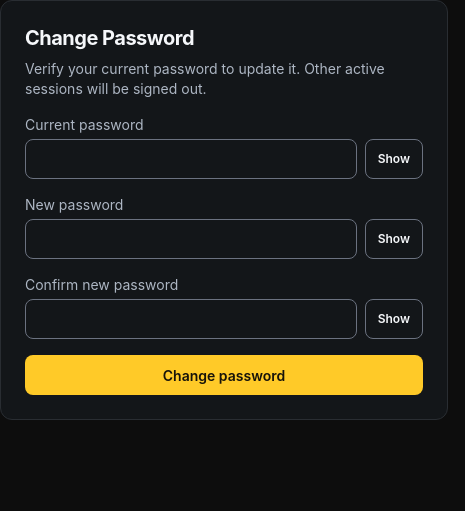
Scenario: ChangePasswordForm › submits through the authenticated API and clears plaintext fields
This screenshot has width=465, height=511.
In the password field labelled "Current password": coordinates (191, 159) [25,139,357,179], type "oldpass123"
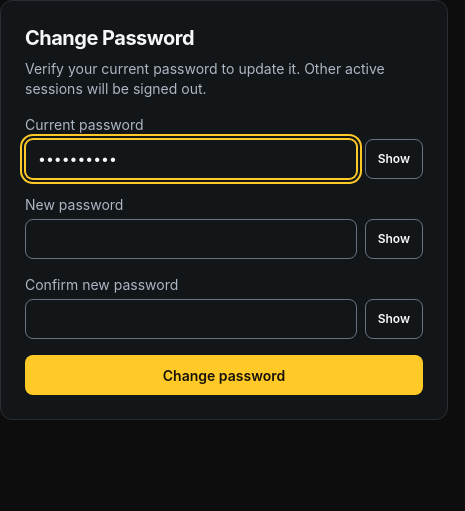
In the password field labelled "New password": coordinates (191, 239) [25,219,357,259], type "newpass123"
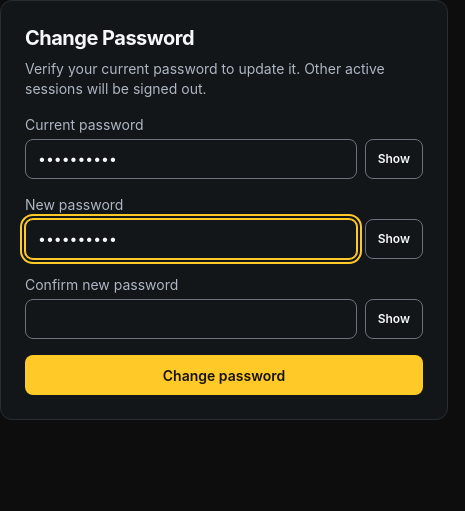
In the password field labelled "Confirm new password": coordinates (191, 319) [25,299,357,339], type "newpass123"
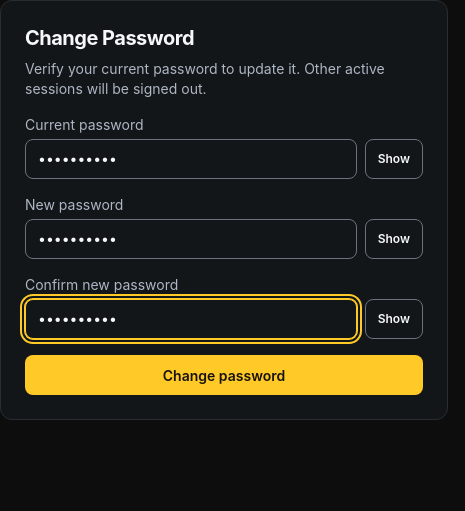
Click the button "Change password": coordinates (224, 375) [25,355,423,395]
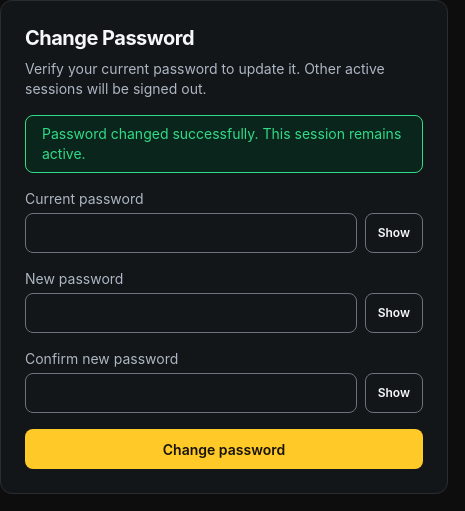
Expected: the message shows "successfully", [42,125,401,162]
Expected: the password field labelled "Current password" is empty, [25,213,357,253]
Expected: the password field labelled "New password" is empty, [25,293,357,333]
